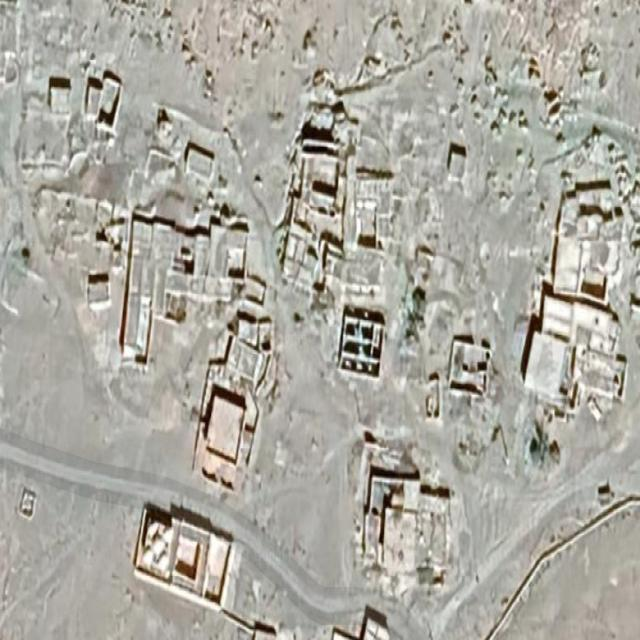Countryside roofs: (120, 197, 250, 354), (351, 457, 458, 593), (137, 495, 230, 623), (528, 316, 624, 435), (281, 120, 353, 256), (546, 172, 619, 304), (198, 369, 261, 492), (438, 312, 495, 409)
